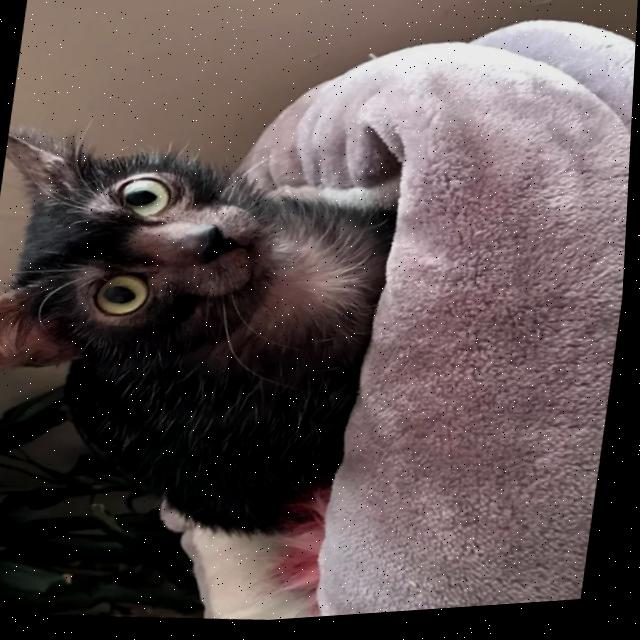Lykoi: (0, 100, 422, 569)
